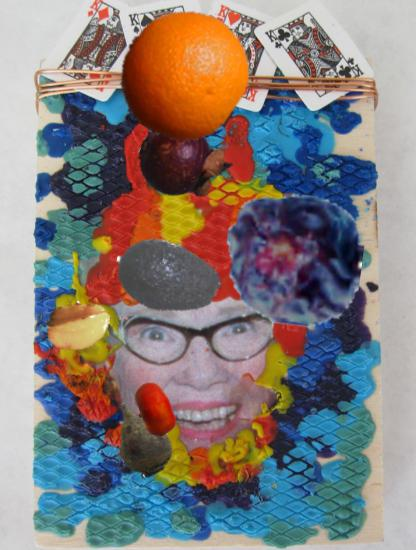Avocado: (114, 222, 223, 331)
Beetroot: (101, 399, 181, 479)
Carambula: (45, 292, 112, 359)
Dates: (225, 191, 362, 328)
Mangostan: (138, 117, 230, 209)
Nectarine: (127, 382, 182, 437)
Orange: (118, 9, 248, 139)
